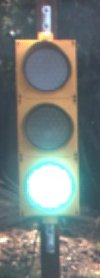Green: (6, 11, 100, 244)
